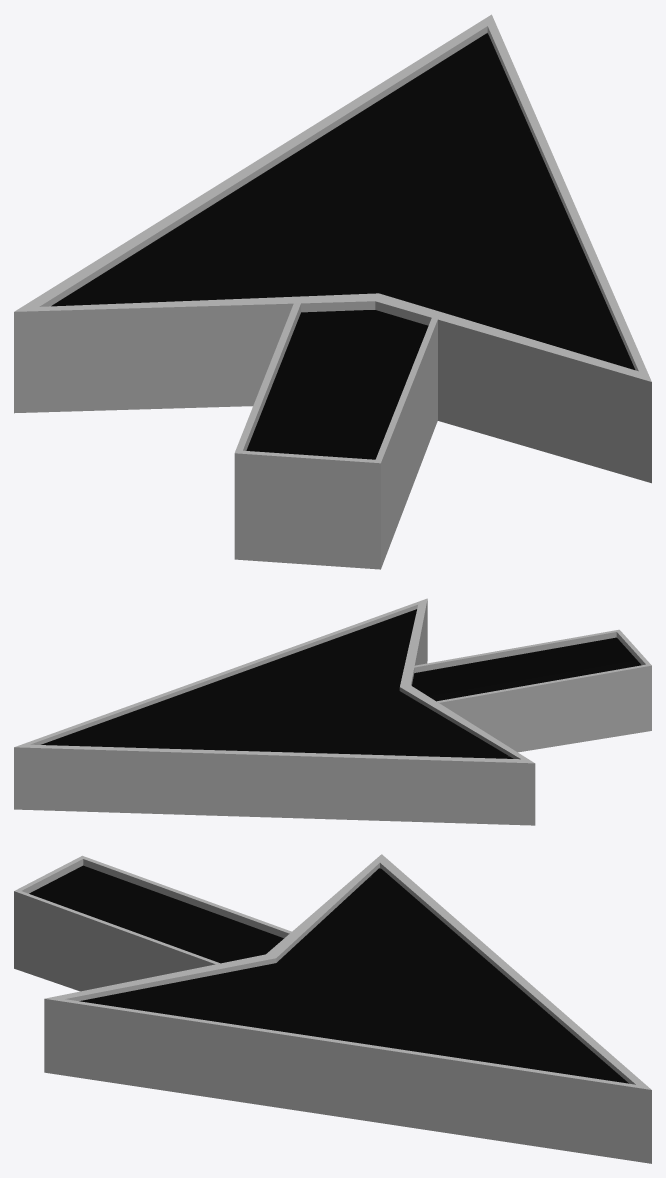
The model's file is cursor.glb.
The picture shows the model from 3 angles, top to bottom: view 1: azimuth 30°, elevation 25°; view 2: azimuth 150°, elevation 25°; view 3: azimuth 270°, elevation 25°; orthographic projection. The views are drawn at different scales.
Parts seen in each view (by area): view 1: pCube1, pCube2; view 2: pCube1, pCube2; view 3: pCube1, pCube2.
Boxes of the visible parts, <box> form: pCube1: <box>14,14,651,483</box>; pCube2: <box>234,303,437,569</box>; pCube1: <box>14,598,535,825</box>; pCube2: <box>412,629,651,752</box>; pCube1: <box>44,854,651,1163</box>; pCube2: <box>14,855,291,991</box>.
Size of the model in its own units: 0.3738 by 0.0573 by 0.4271.
2 materials, 2 textured.
